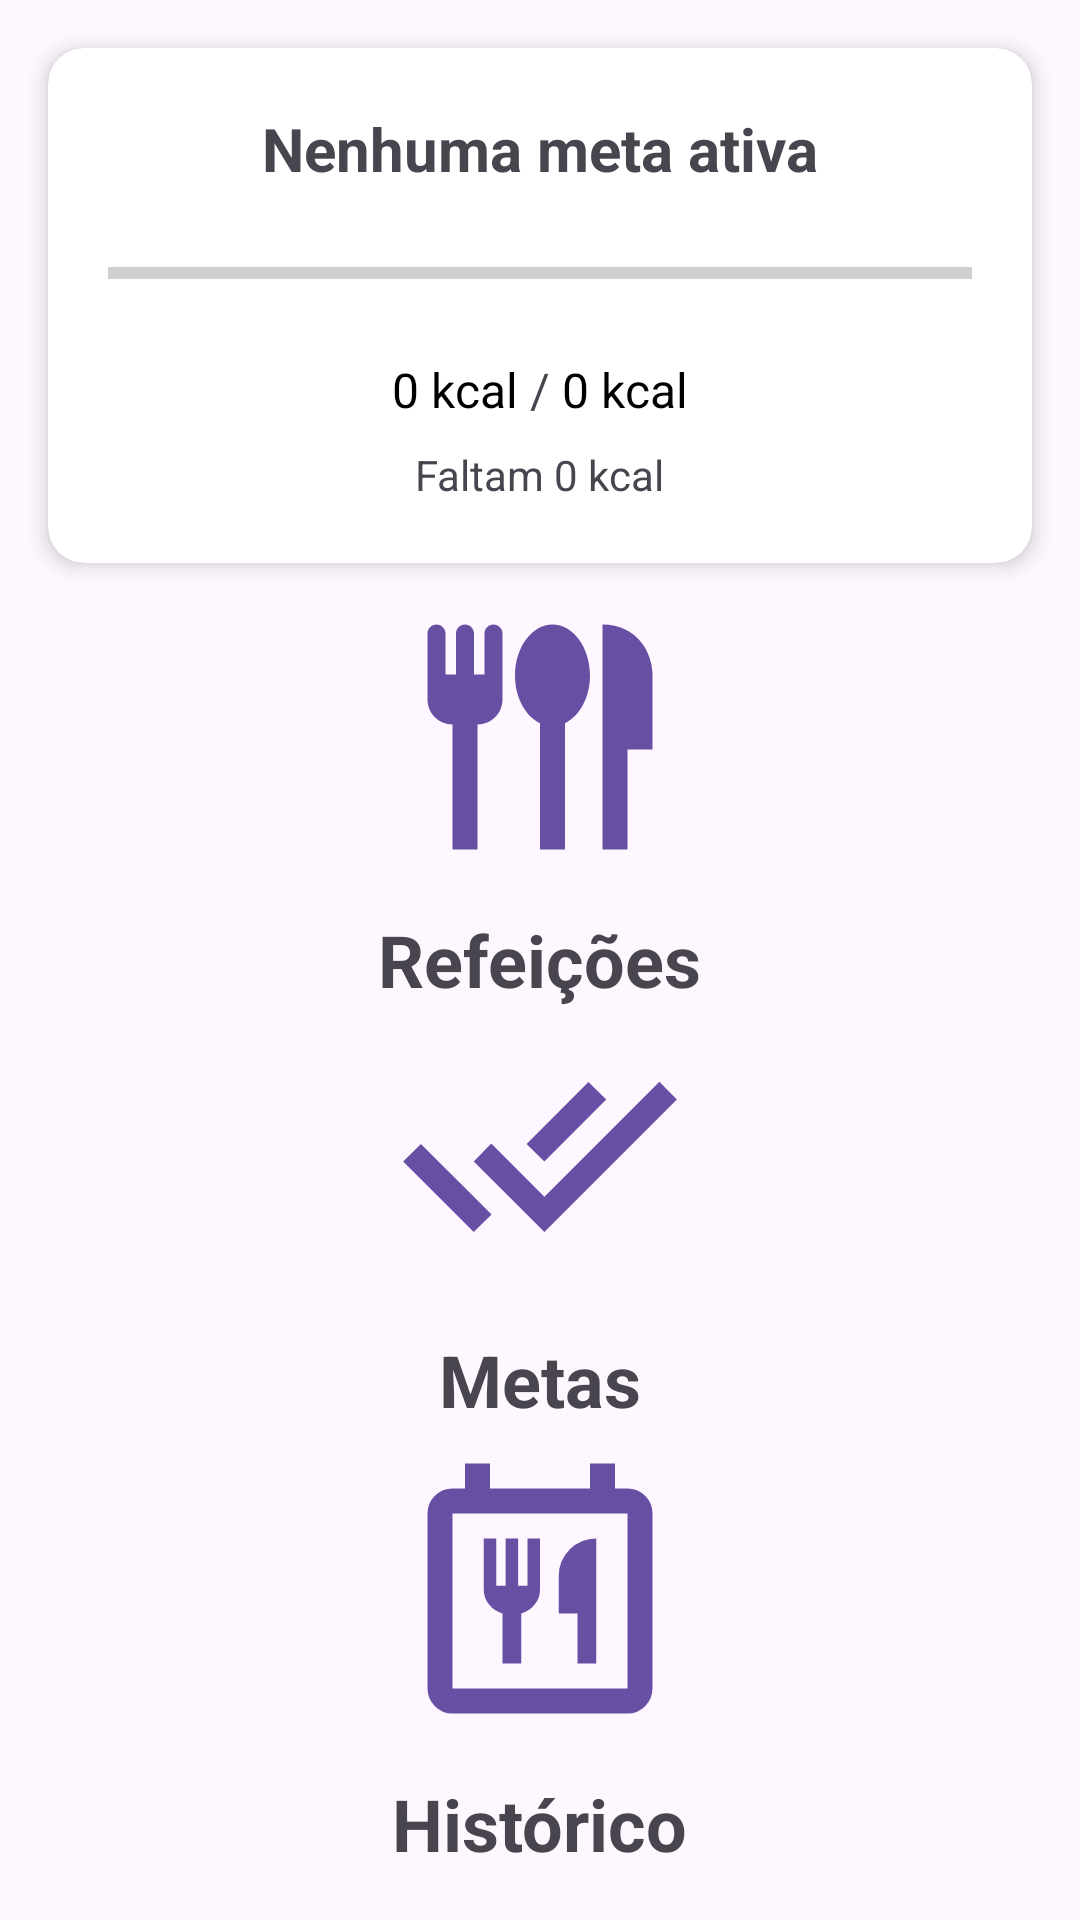

Locate icon controls on the screen. Image size 1080*1920, boxes as (left=x1, top=y1, right=x2, bottom=y2).
meal: (left=427, top=624, right=653, bottom=850)
